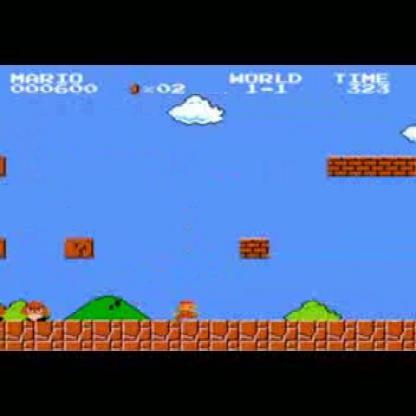Goomba: (21, 297, 53, 323)
